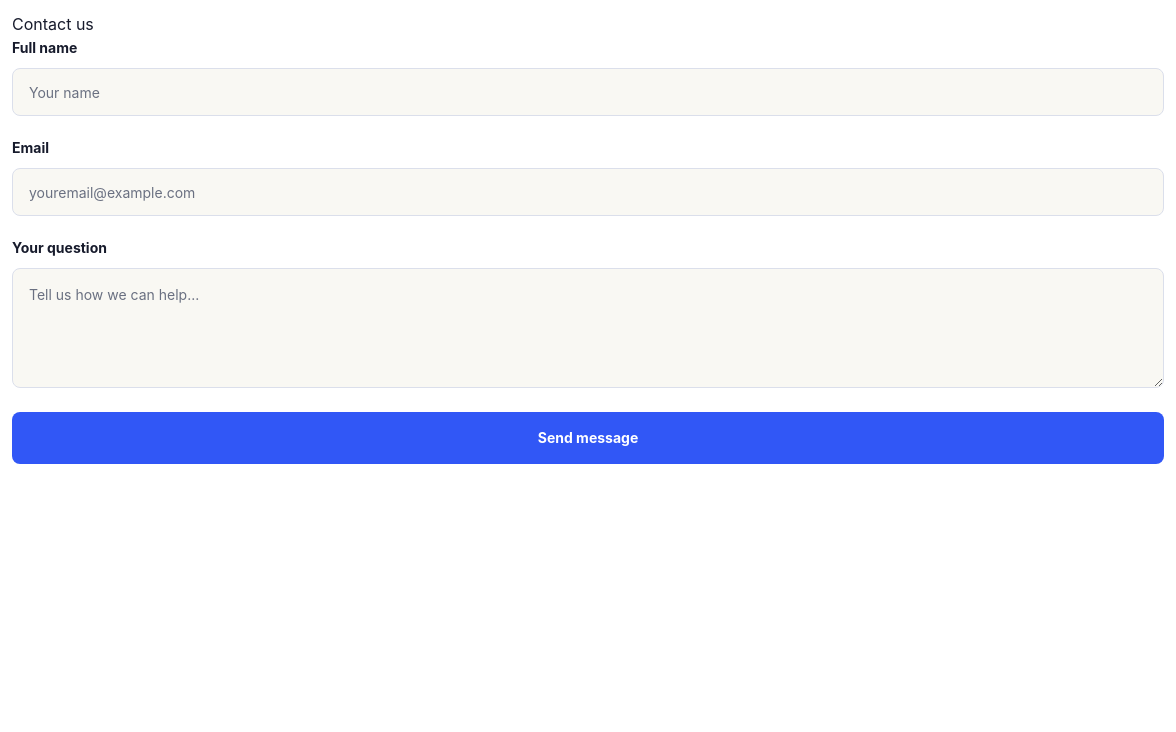
Test: ContactForm › submits valid data, confirms it and resets the form
In the field labelled "Full name": (588, 92) left=12, top=68, right=1164, bottom=116, type "Ana Silva"
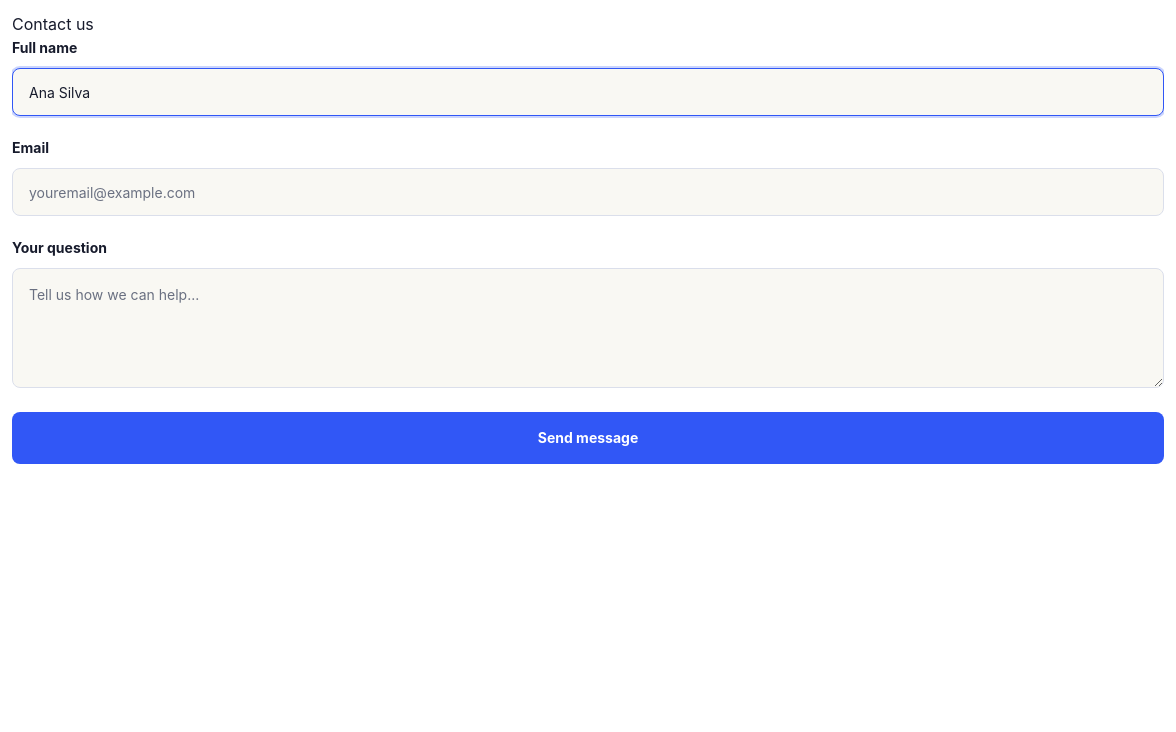
In the field labelled "Email": (588, 192) left=12, top=168, right=1164, bottom=216, type "ana@example.com"
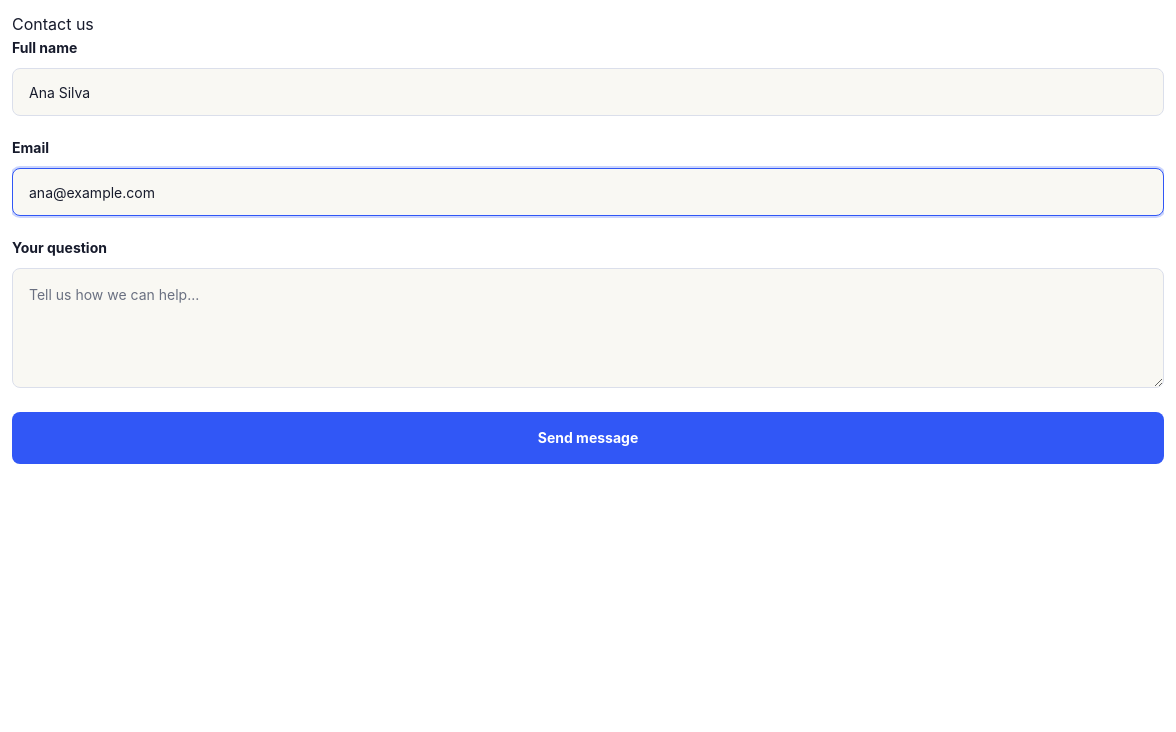
In the text box labelled "Your question": (588, 328) left=12, top=268, right=1164, bottom=388, type "Do you offer team plans?"
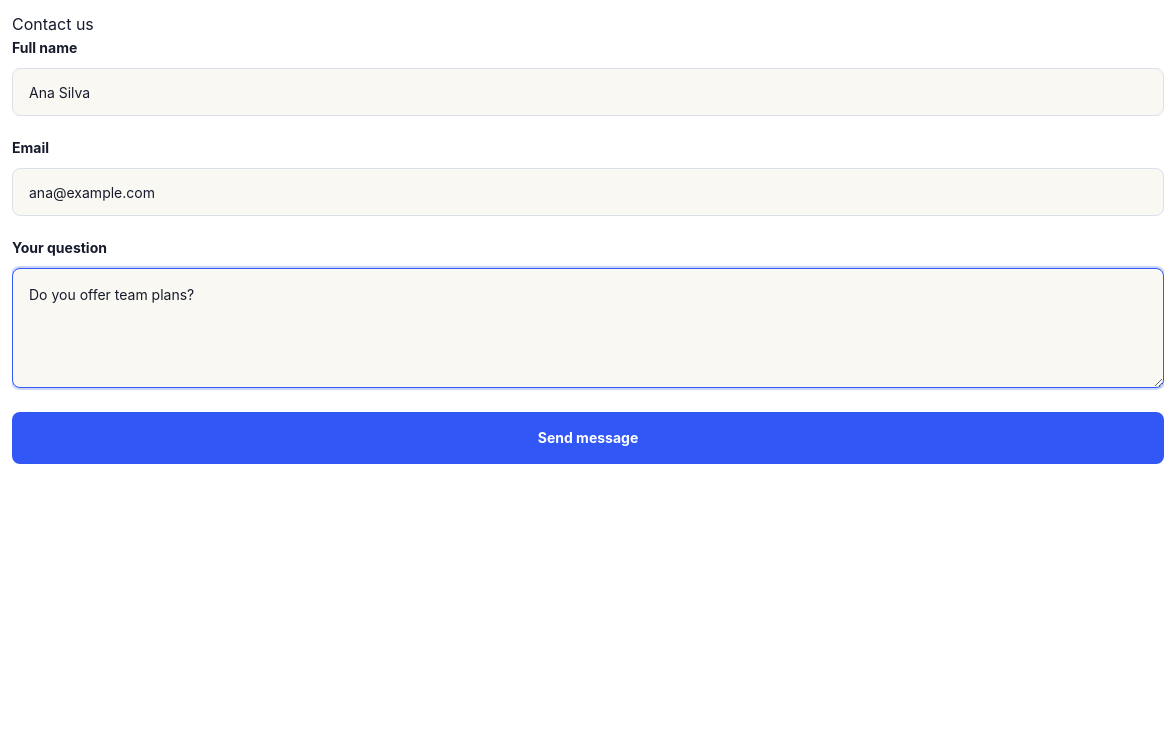
Click the button "Send message": (588, 438) left=12, top=412, right=1164, bottom=464
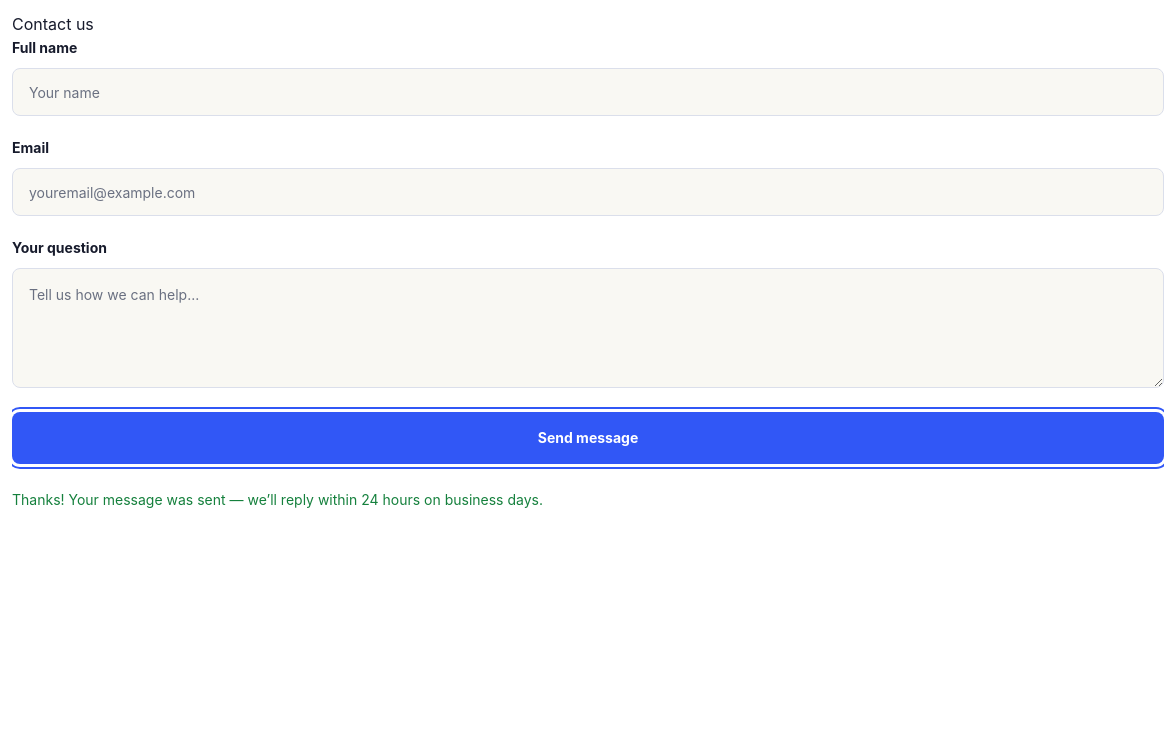
Now the message shows "Your message was sent", box left=12, top=491, right=543, bottom=508
Now the field labelled "Full name" is empty, box left=12, top=68, right=1164, bottom=116
